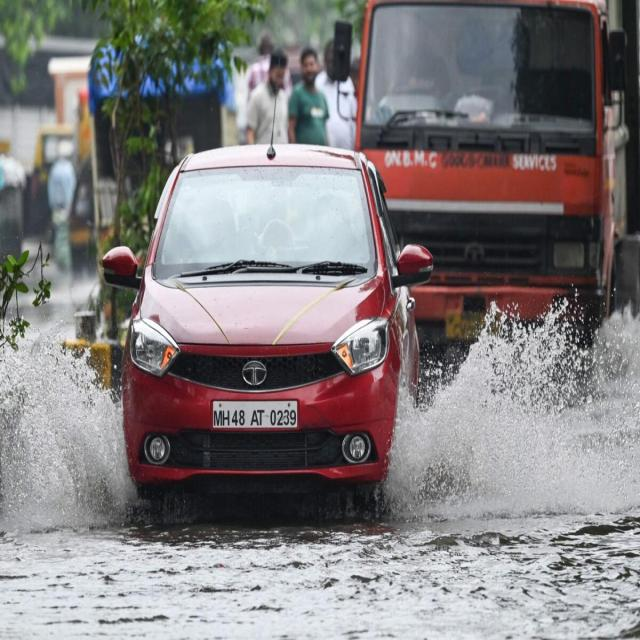plate: (210, 398, 302, 433)
